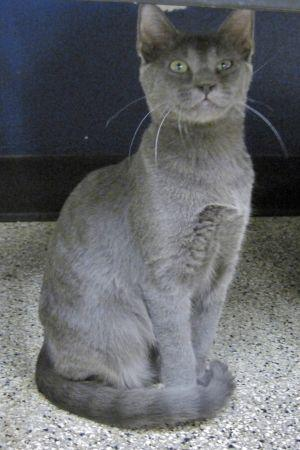rblue: (117, 1, 277, 145)
